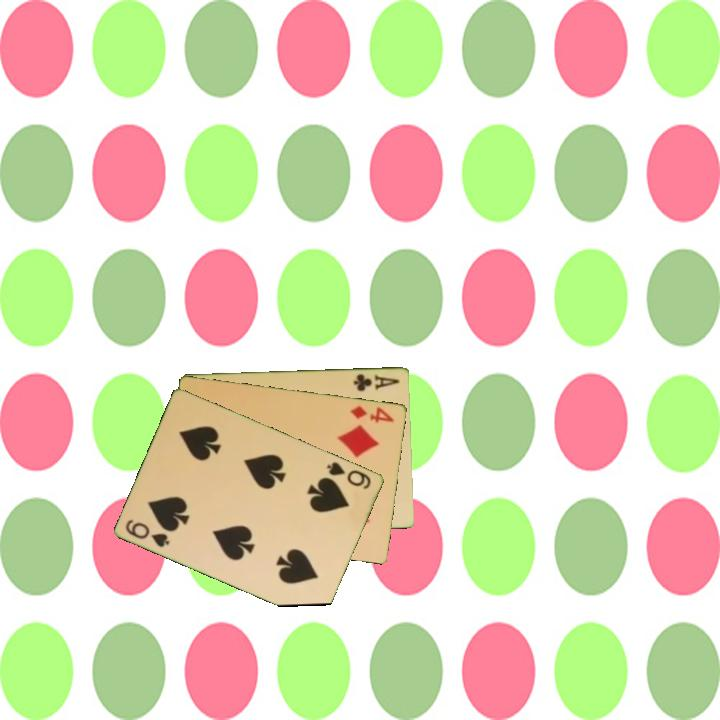4d: (347, 402, 397, 425)
6s: (122, 515, 173, 550), (323, 458, 374, 492)
Ac: (350, 370, 403, 394)
